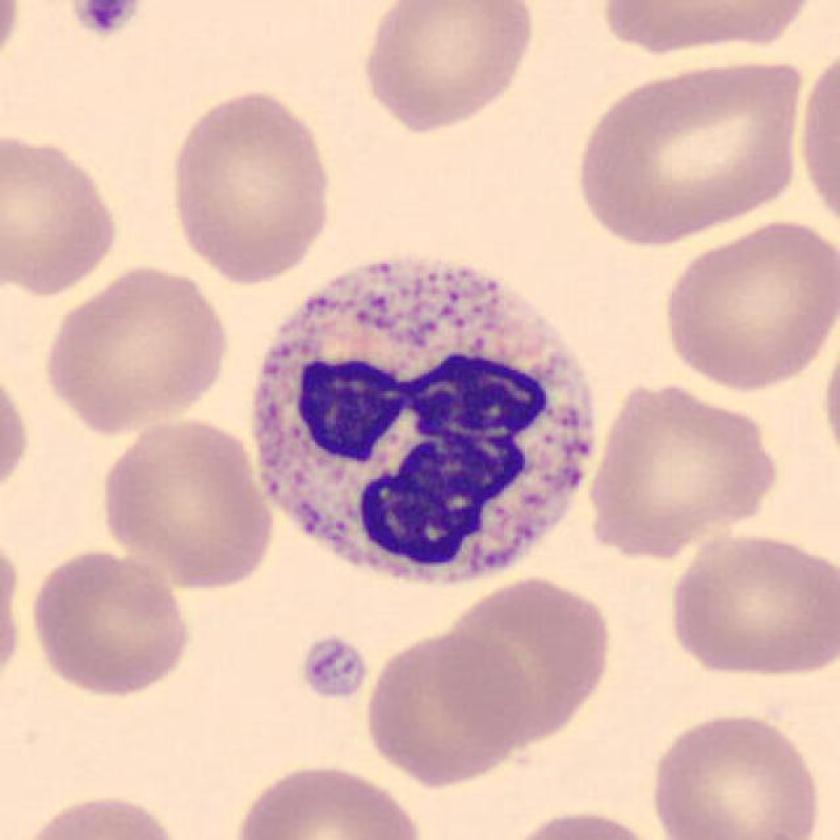neutrophil: (254, 259, 592, 579)
